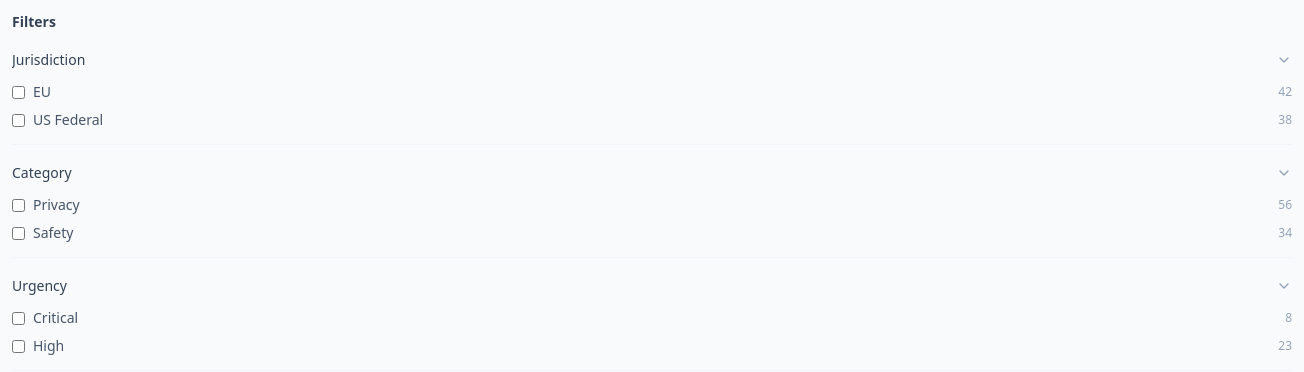
Test: FacetPanel › collapses facet group on click
# Click Jurisdiction header to collapse
What coordinates should you click on to do the following:
click the button "Jurisdiction"
I would click on:
 (49, 60)
Its box is [12,44,1292,76].
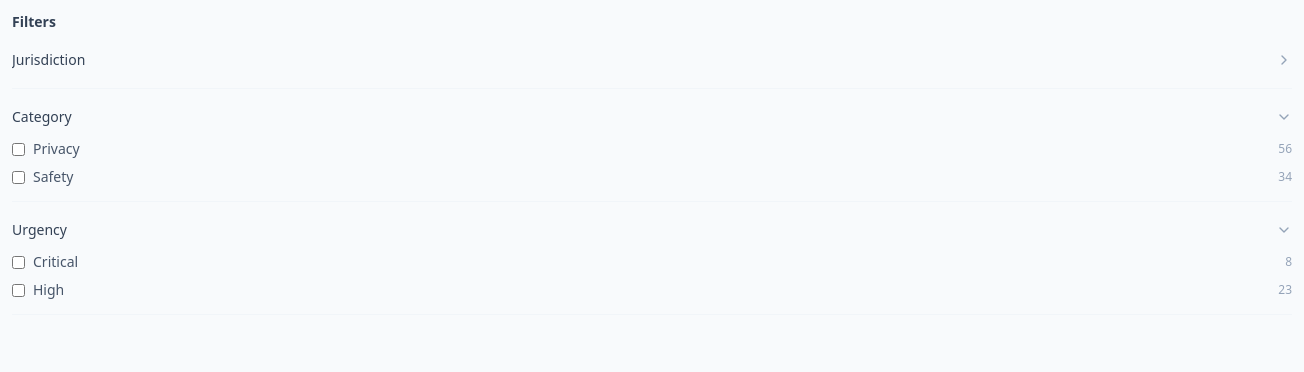
expect the text "EU" is gone: met
